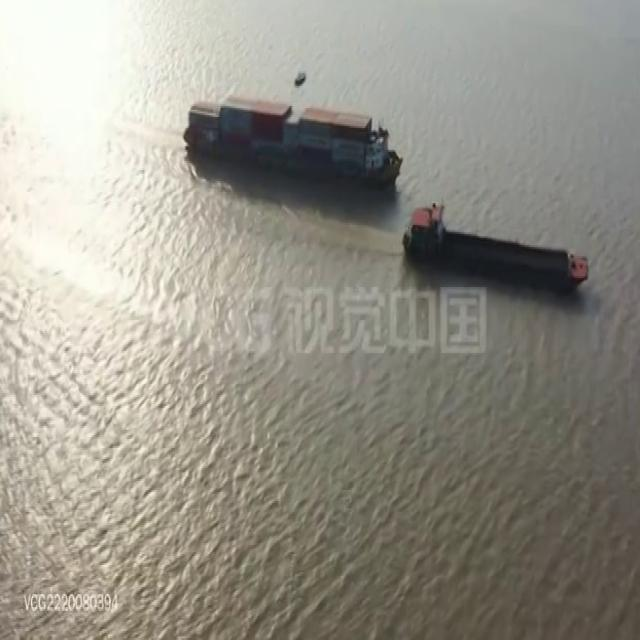cargoship: (393, 184, 594, 286), (185, 72, 385, 170)
